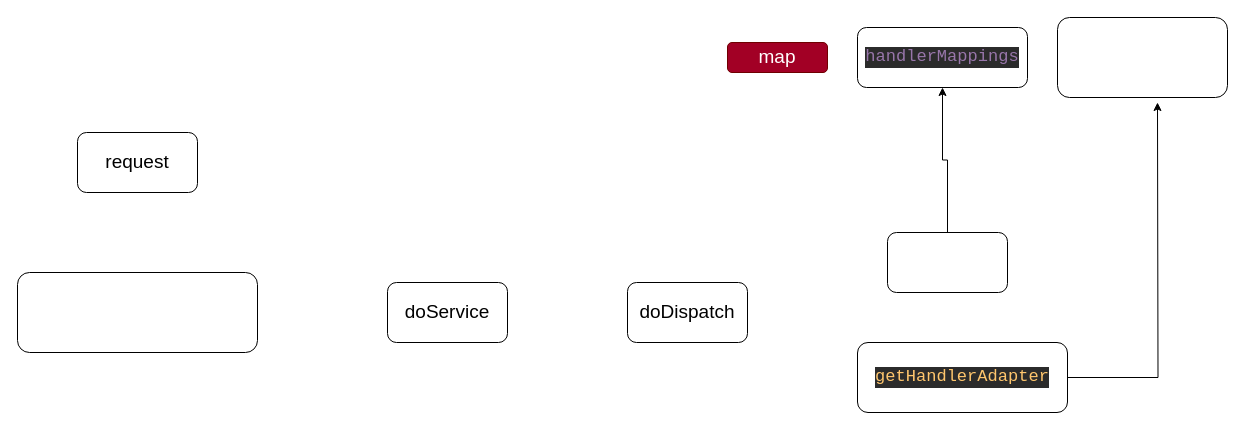
The diagram is 1245 pixels wide and 430 high, and some of its shapes have lost their labels. Each missing label, with the centre of its shape:
"DispatcherServlet" goes at pixel 137 312.
"getHandler" goes at pixel 947 262.
"handlerAdapters" goes at pixel 1142 57.
